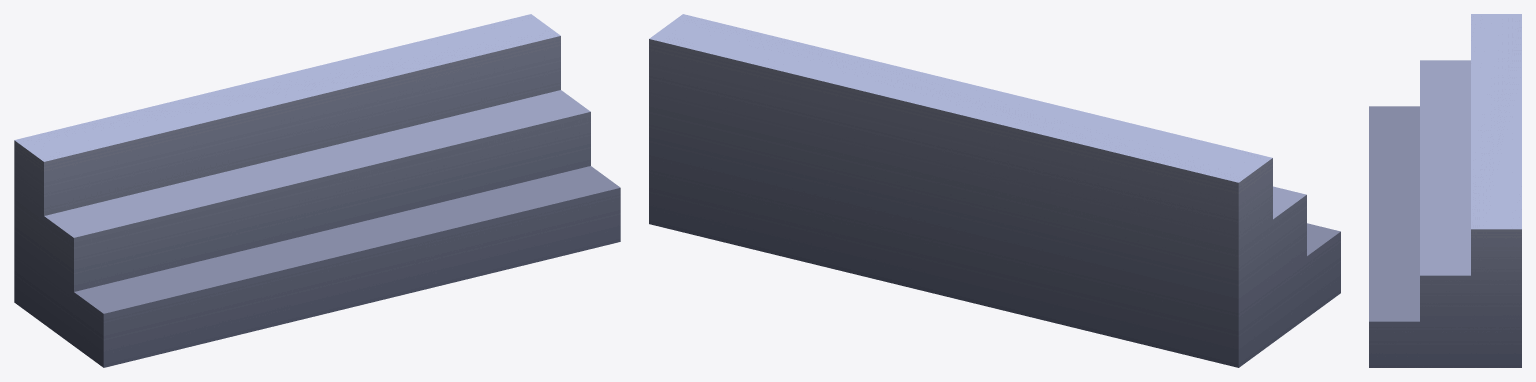
The model's file is stairs-small-center.glb.
3 views of the same model, side by side, from view 1: azimuth 30°, elevation 25°; view 2: azimuth 150°, elevation 25°; view 3: azimuth 270°, elevation 25° (orthographic). The views are drawn at different scales.
Parts seen in each view (by area): view 1: stairs-small-center; view 2: stairs-small-center; view 3: stairs-small-center.
Part boxes in pixels (left/top/right/bottom): stairs-small-center: left=14, top=14, right=620, bottom=367; stairs-small-center: left=649, top=14, right=1340, bottom=367; stairs-small-center: left=1369, top=14, right=1521, bottom=367.
Size of the model in its own units: 1 by 0.3 by 0.3.
1 material, 1 textured.
